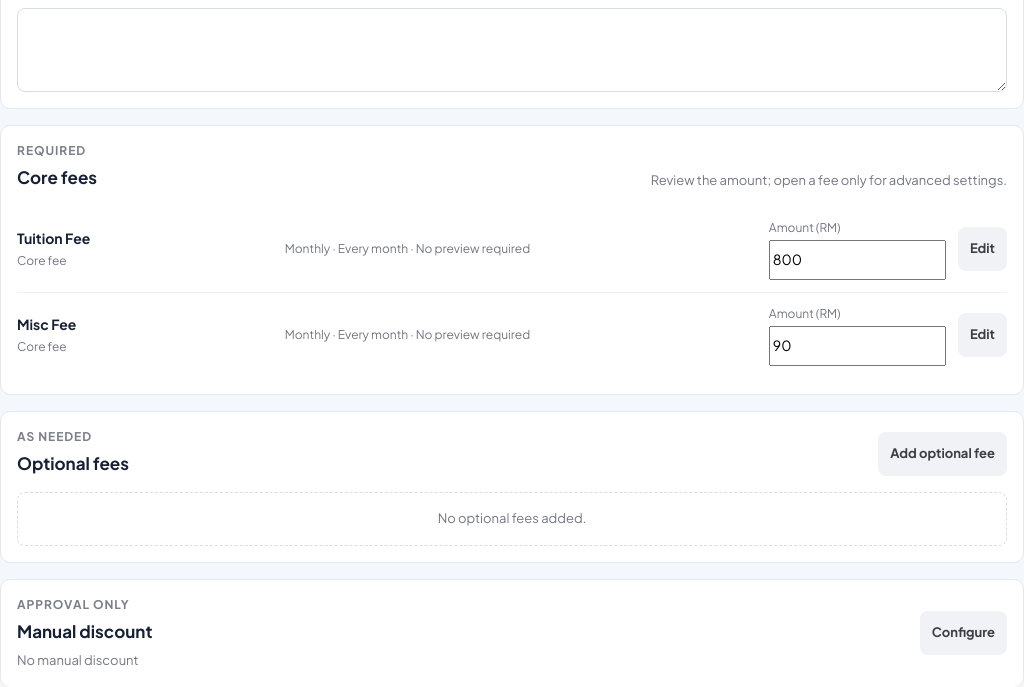
Test: FeeAgreementEditor › labels a discount total as illustrative and warns that billing is blocked
This screenshot has width=1024, height=687.
(page scrolled)
Expected: the text "No manual discount" is shown, [17, 652, 139, 668]
Expected: the field labelled "Discount Value" is not shown
Click the button with aria-label "Configure manual discount". click: coordinates (963, 633)
box: [920, 611, 1007, 655]
(page scrolled)
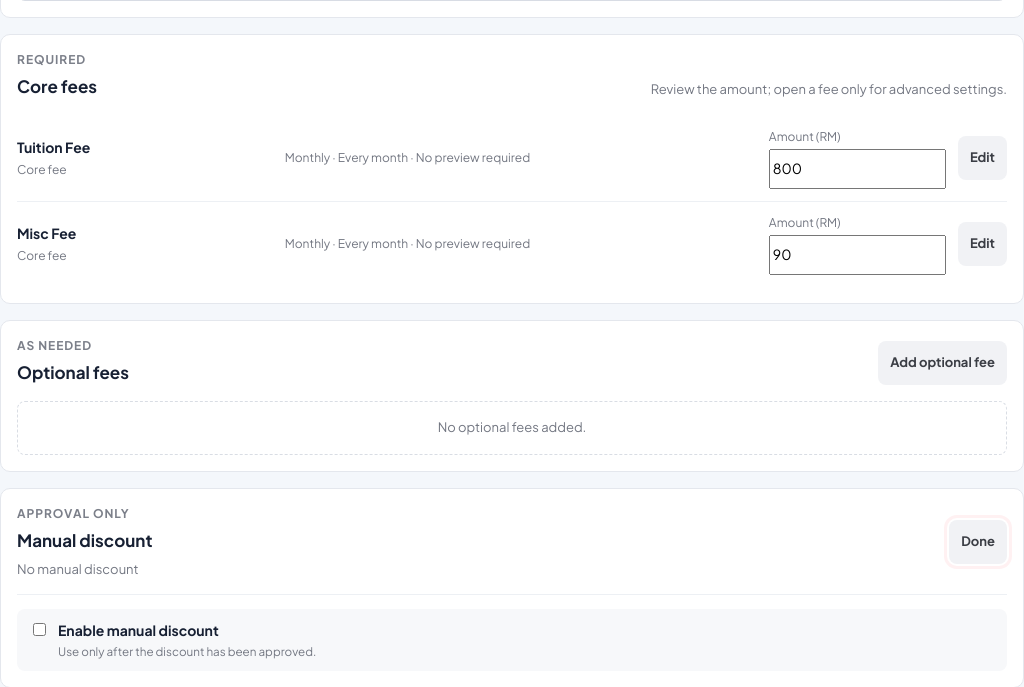
Click the checkbox labelled "Enable manual discount". click: coordinates (40, 629)
box: [33, 622, 46, 636]
(page scrolled)
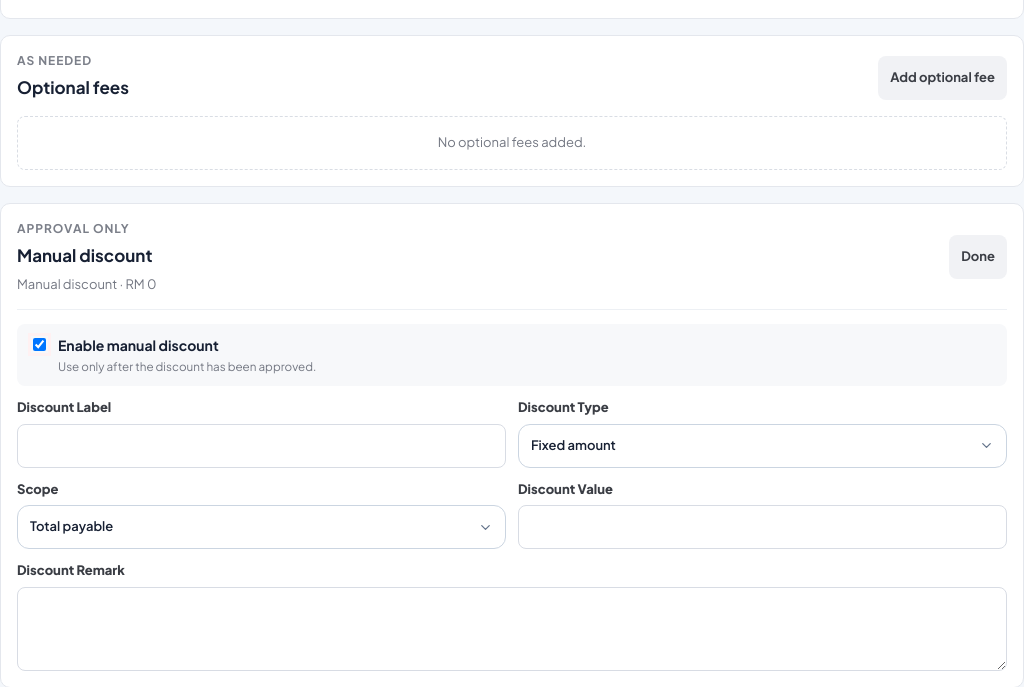
Type "40" into the number field labelled "Discount Value". click: coordinates (762, 527)
box: [518, 505, 1007, 549]
(page scrolled)
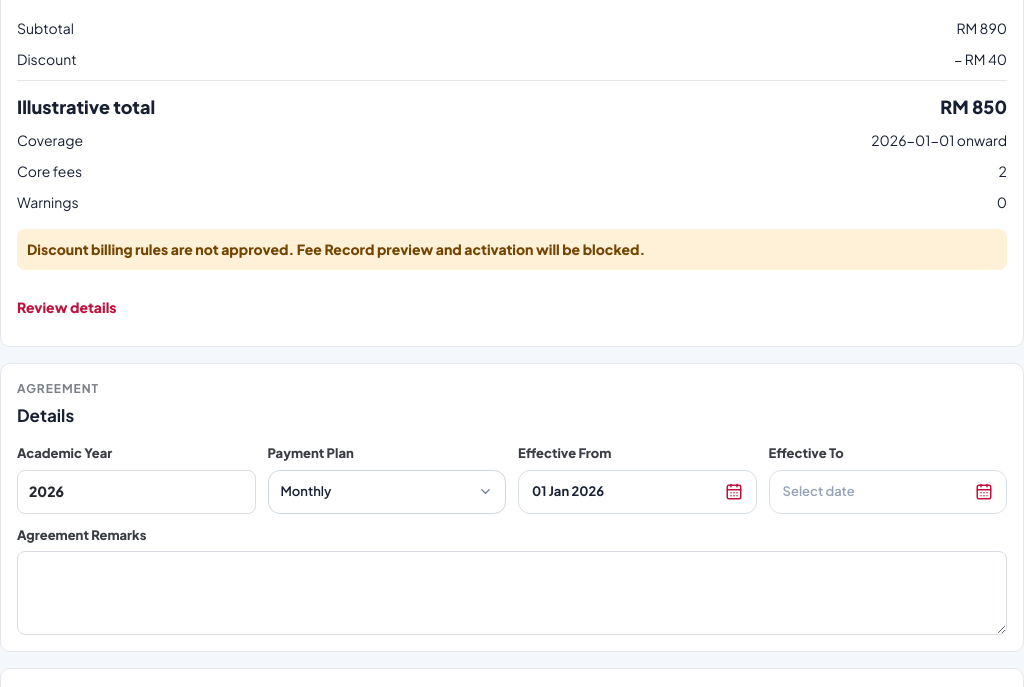
Expected: the text "Illustrative total" shows "RM 850", [940, 94, 1007, 118]
Expected: the element "Agreement Summary" shows "Discount billing rules are not approved. Fee Record preview and activation will be blocked.", [27, 240, 645, 258]
